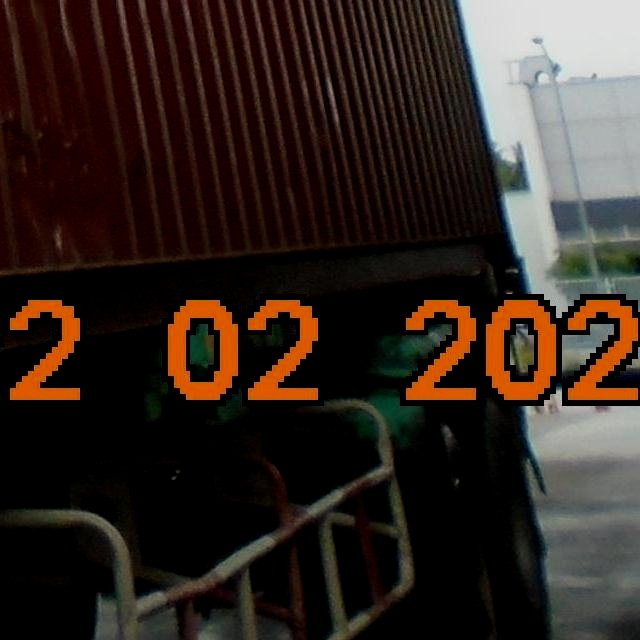Dent: (2, 110, 121, 273)
